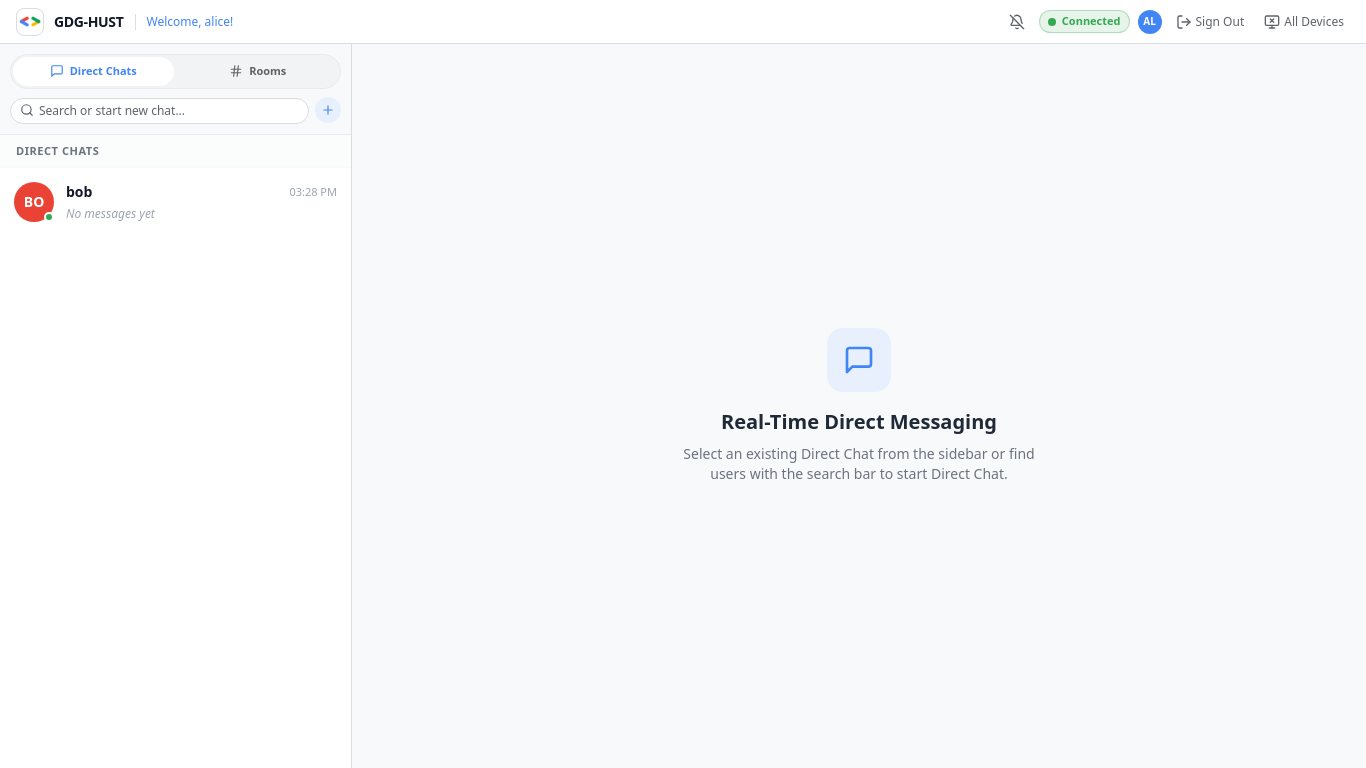
Test: Rate limit notices (SEC-07) › 429 on GIF search shows the wait time
Click the text "bob": click(79, 192) [66,182,92,202]
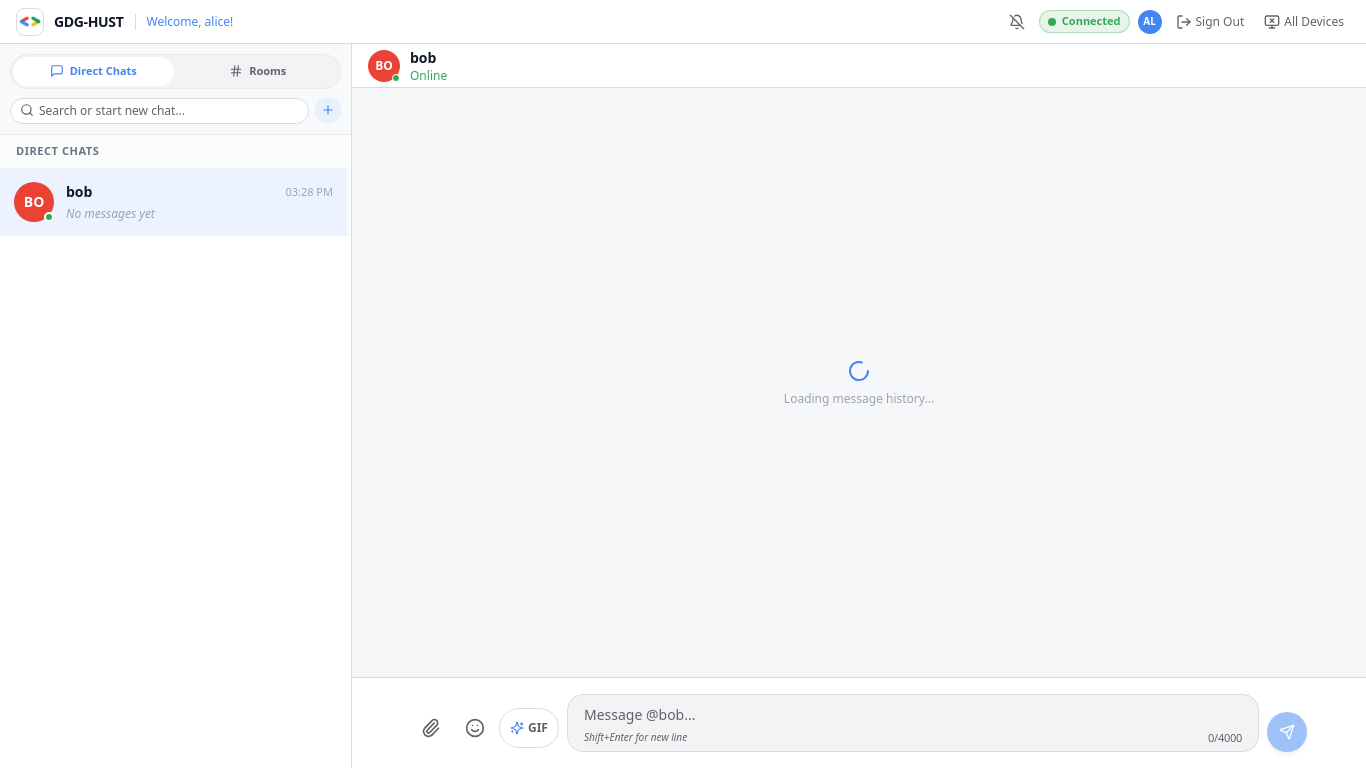
Click the button "GIF": click(529, 728) [499,708,559,748]
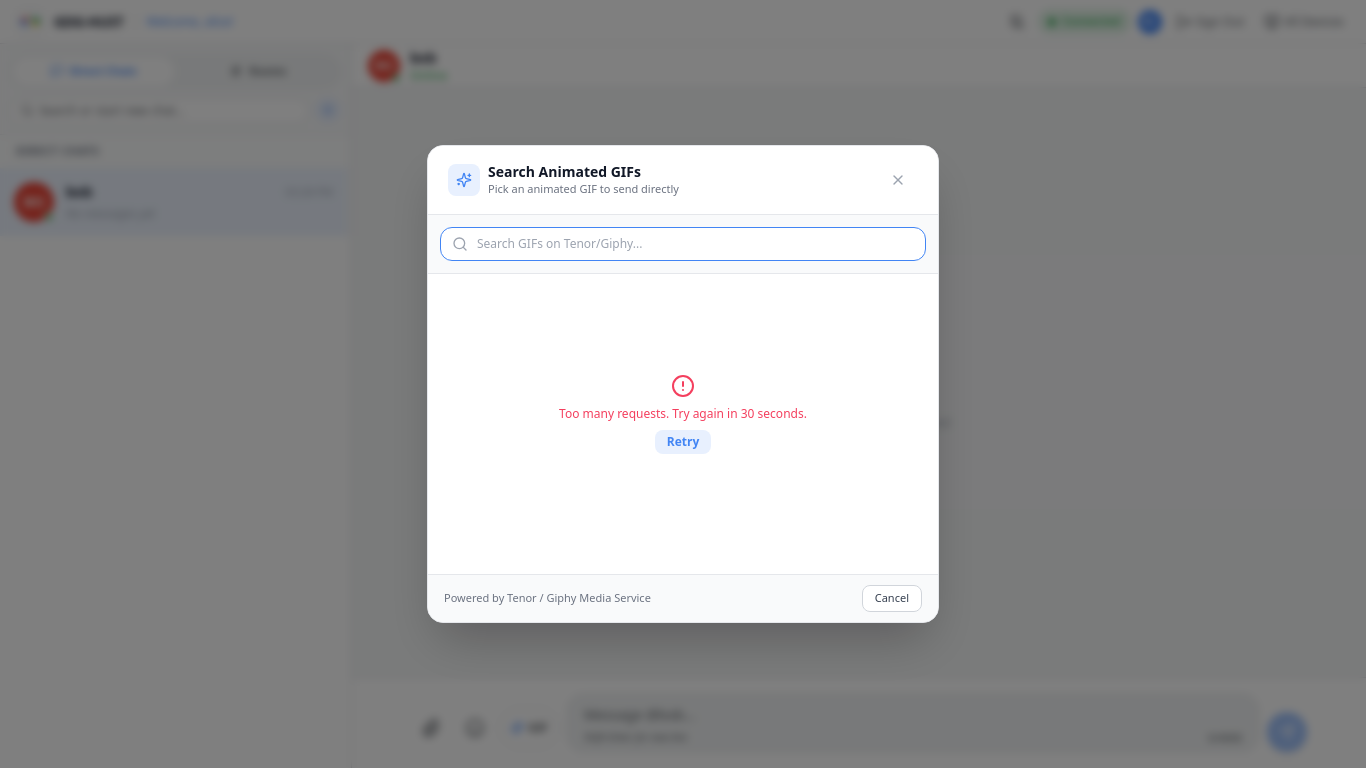
Check: the text "Too many requests. Try again in 30 seconds." is shown, box [559,406,807,422]
